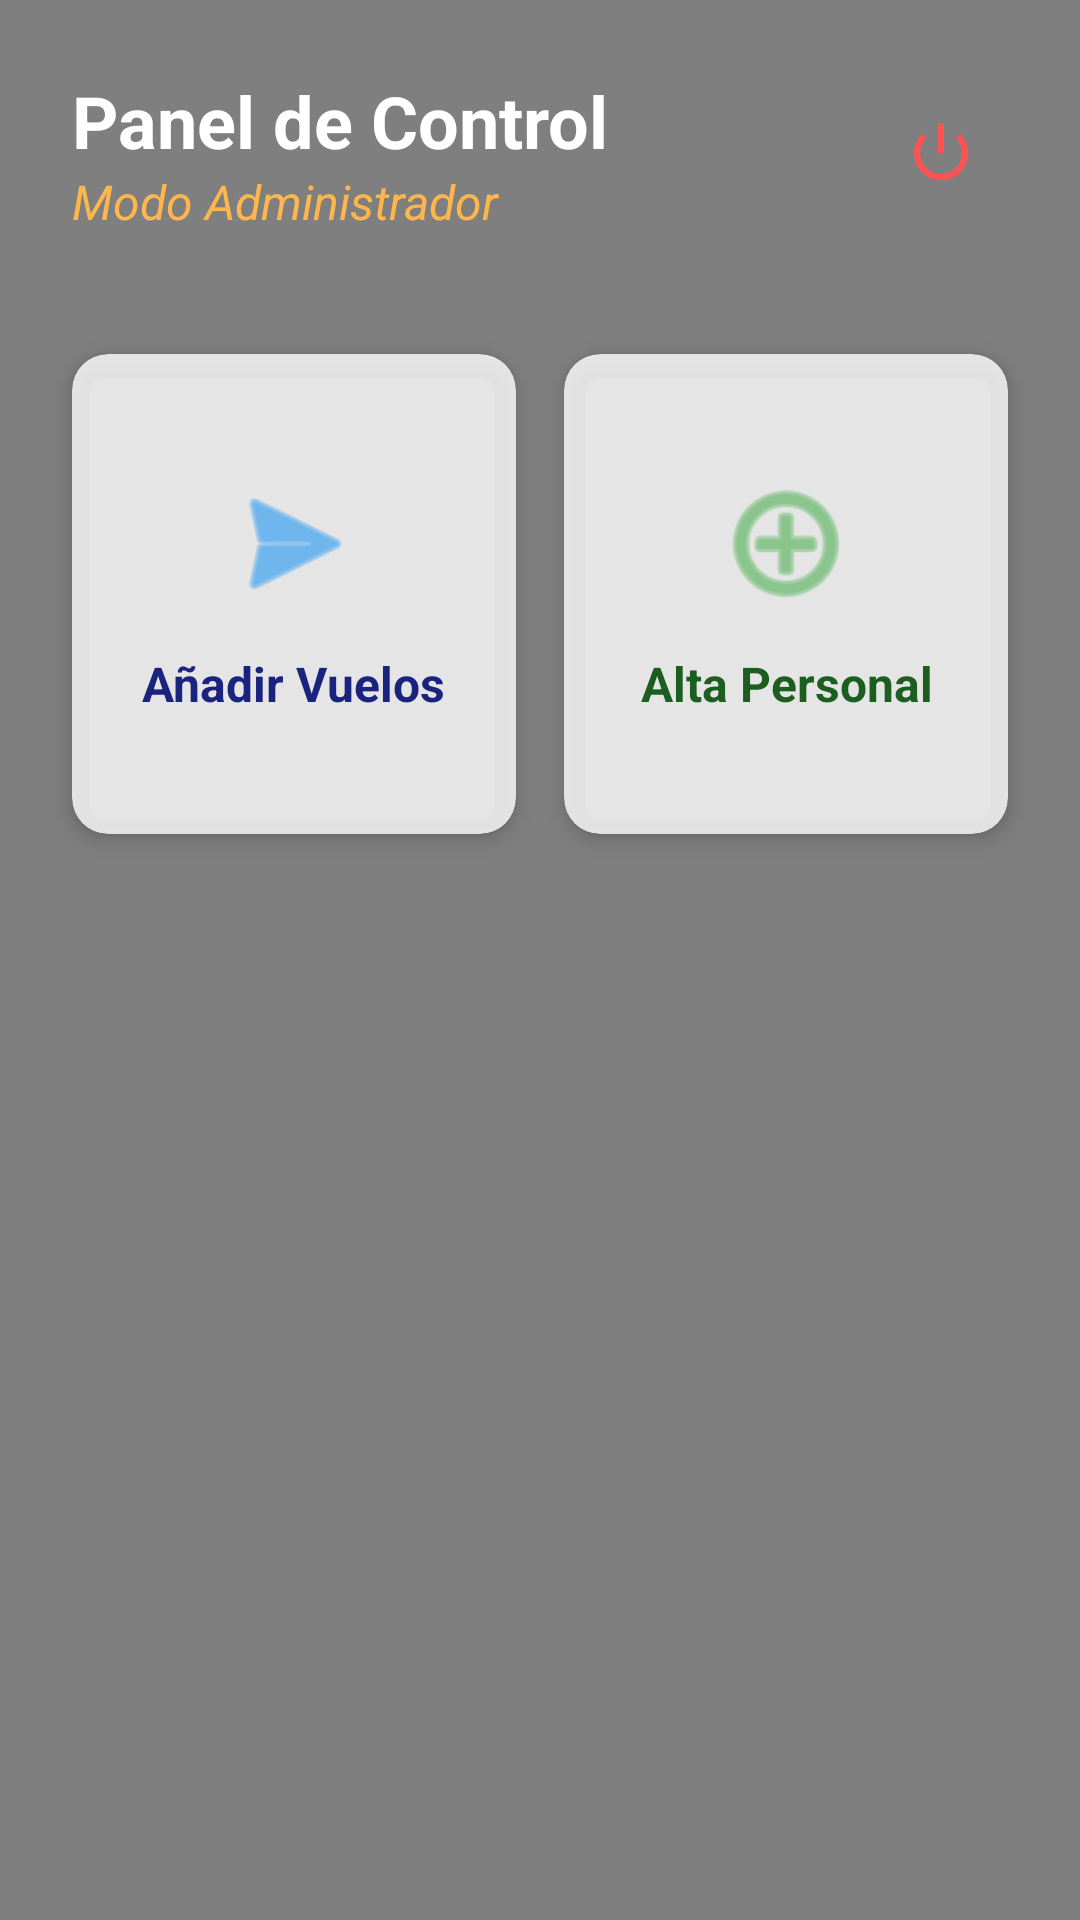

Screen size 1080px x 1920px. Icon name, then its box in pixels as (x1, y1, x2, y2):
add: (733, 490, 839, 597)
lock power off: (914, 123, 968, 180)
send: (249, 498, 341, 589)
